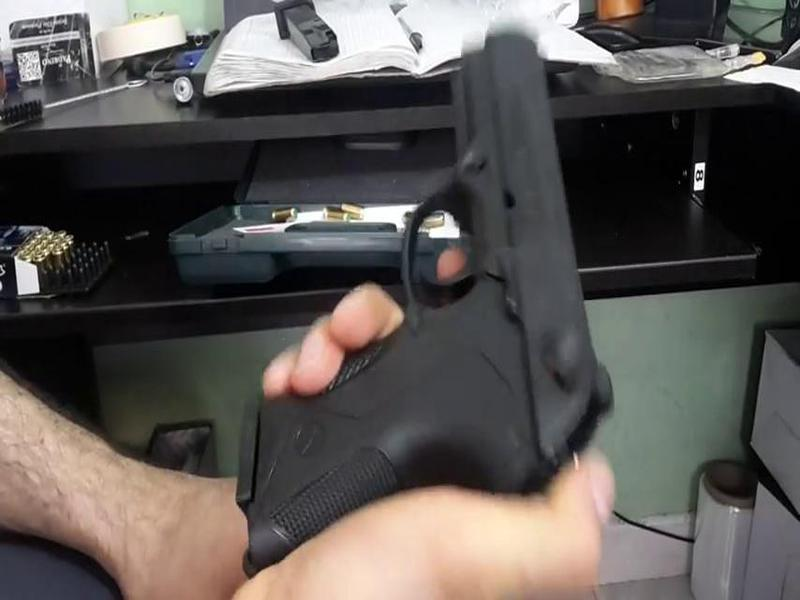Pistola: (202, 41, 607, 544)
